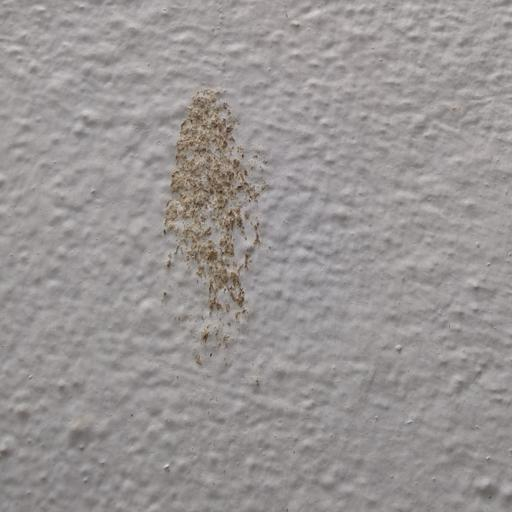stain: (142, 70, 265, 359)
